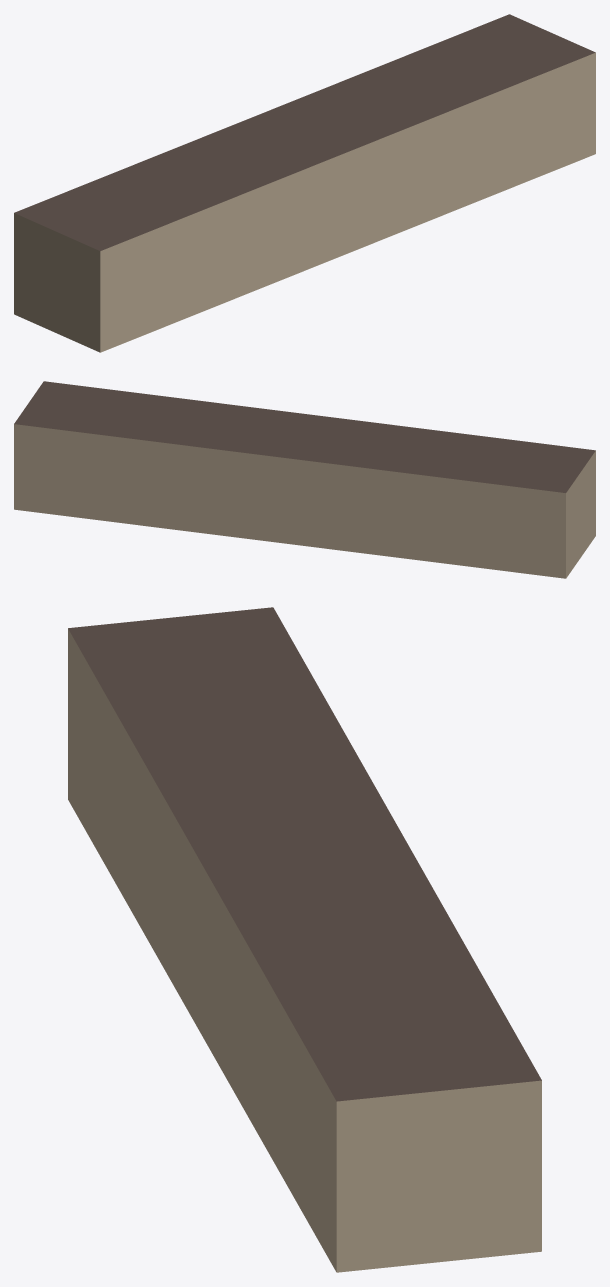
3 views of the same model, one above another, from view 1: azimuth 30°, elevation 25°; view 2: azimuth 150°, elevation 25°; view 3: azimuth 270°, elevation 25° (orthographic). The views are drawn at different scales.
Visible parts, largest first — view 1: HP-w299010091; view 2: HP-w299010091; view 3: HP-w299010091.
Part boxes in pixels (x1=…): HP-w299010091: x1=14, y1=14, x2=595, y2=352; HP-w299010091: x1=14, y1=381, x2=595, y2=578; HP-w299010091: x1=68, y1=607, x2=541, y2=1272.
Size of the model in its own units: 55.73 by 9 by 22.6.
